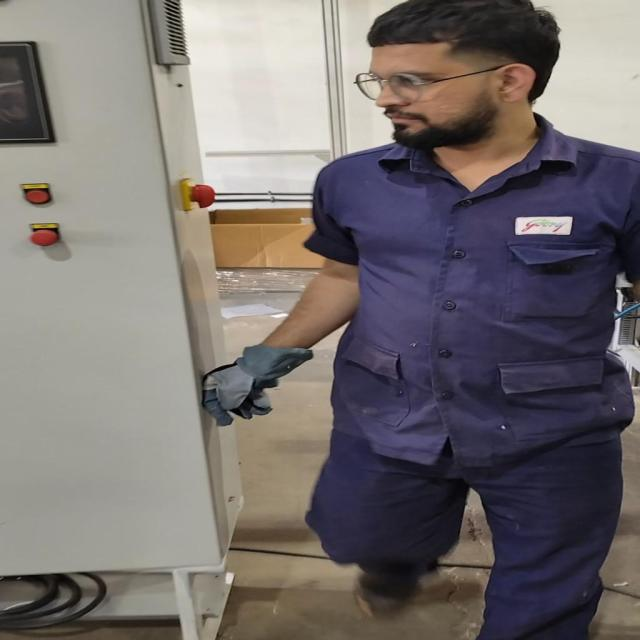Gloves-Detection: (197, 334, 307, 425)
